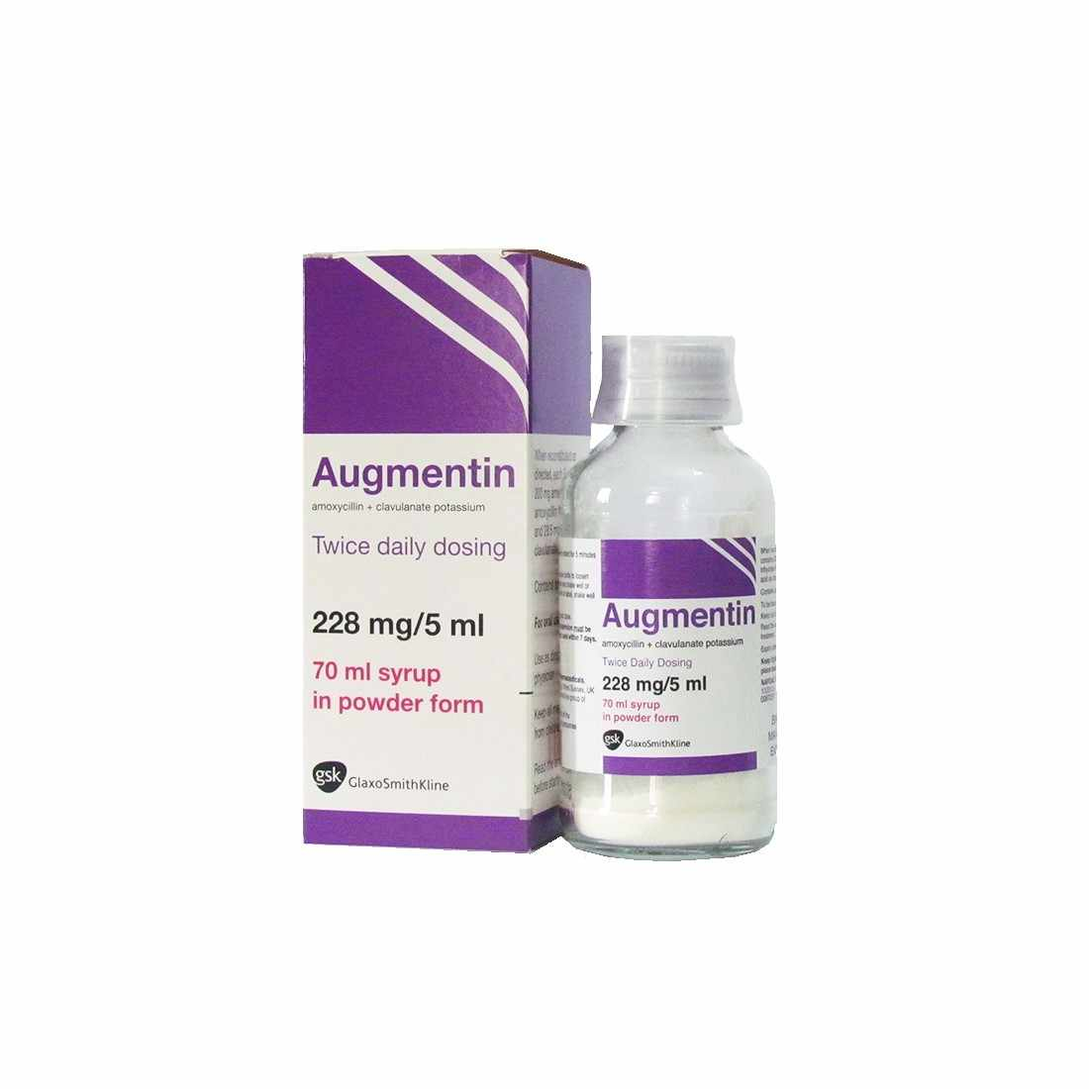Medicine: (287, 234, 568, 851), (561, 310, 799, 868)
